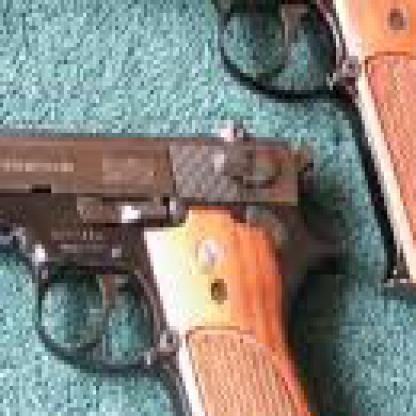gun: (19, 0, 413, 326), (0, 94, 381, 412)
